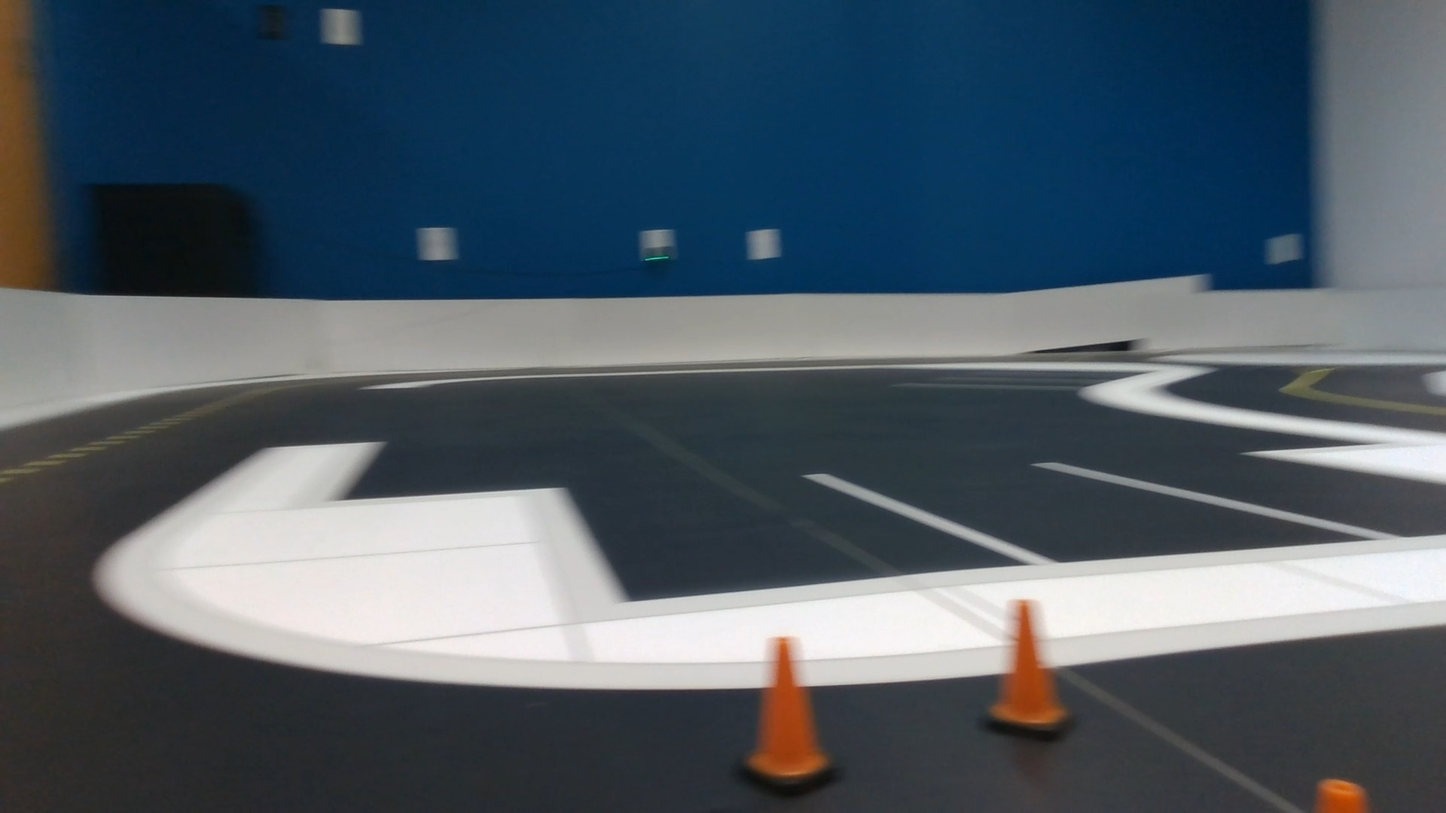Traffic Cone: (743, 639, 834, 793), (984, 601, 1072, 739), (1315, 779, 1368, 812)
